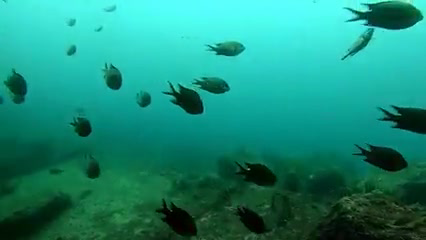mezina: (344, 1, 424, 33), (349, 137, 412, 175), (164, 78, 215, 123), (229, 153, 284, 190), (152, 198, 202, 237), (371, 98, 426, 133), (229, 205, 273, 240), (196, 73, 236, 101), (206, 39, 251, 59), (67, 111, 92, 142)
smallfish: (337, 25, 377, 67), (2, 70, 34, 104), (97, 62, 127, 92), (127, 82, 150, 110)
